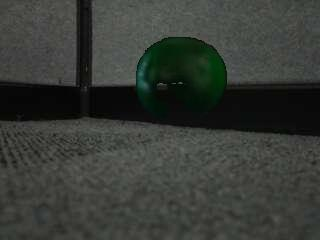Lime: (132, 36, 232, 118)
